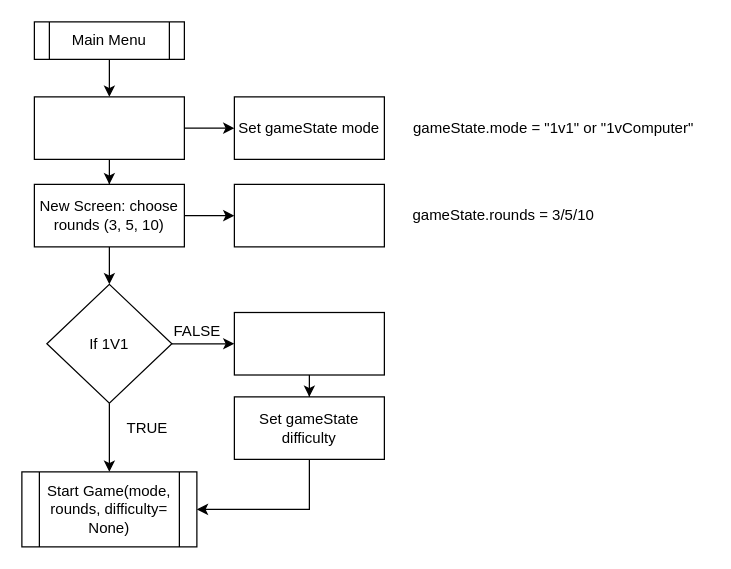
The diagram is 731 pixels wide and 569 high, and some of its shapes have lost their labels. The centre of each missing label's shape, as x and y in pixels:
New screen: choose difficulty: Easy / Difficult: point (308, 343)
Set gameState rounds: point (308, 215)
Show options "1v1", "1vComputer": point (108, 127)
